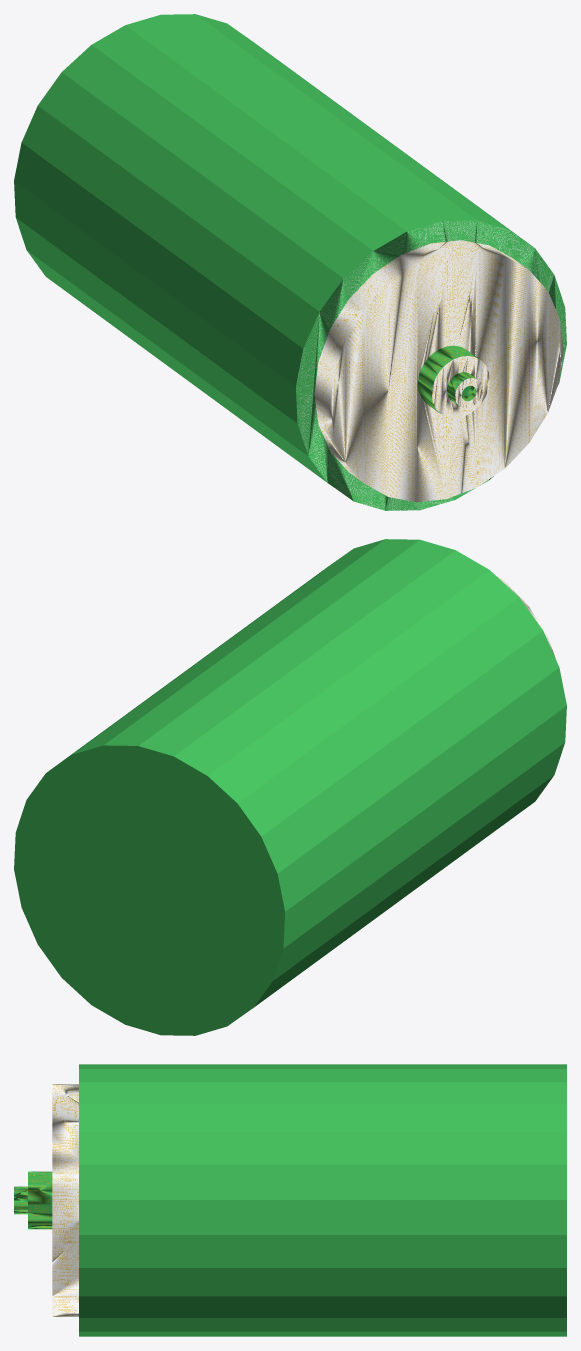
Rendered from model_align.obj.
3 renders of one model, top to bottom at view 1: azimuth 30°, elevation 25°; view 2: azimuth 150°, elevation 25°; view 3: azimuth 270°, elevation 25°, orthographic. The views are drawn at different scales.
Bounding box in the file's own units: 0.059 × 0.059 × 0.1203.
